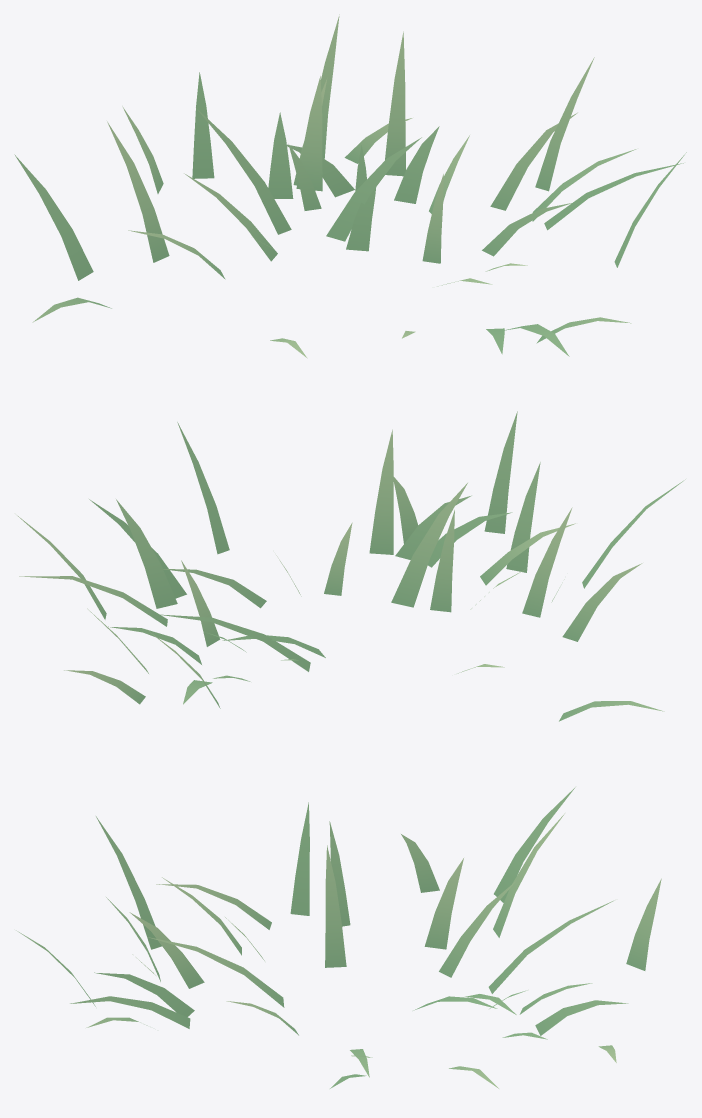
File: grass_sward_b.glb
3 views of the same model, one above another, from view 1: azimuth 30°, elevation 25°; view 2: azimuth 150°, elevation 25°; view 3: azimuth 270°, elevation 25° (orthographic). The views are drawn at different scales.
Visible parts, largest first — view 1: soft; view 2: soft; view 3: soft.
Part boxes in pixels (bbox=[...]): soft: bbox=[14, 14, 686, 358]; soft: bbox=[17, 411, 685, 721]; soft: bbox=[16, 787, 661, 1088].
Size of the model in its own units: 1.14 by 0.2152 by 1.11.
